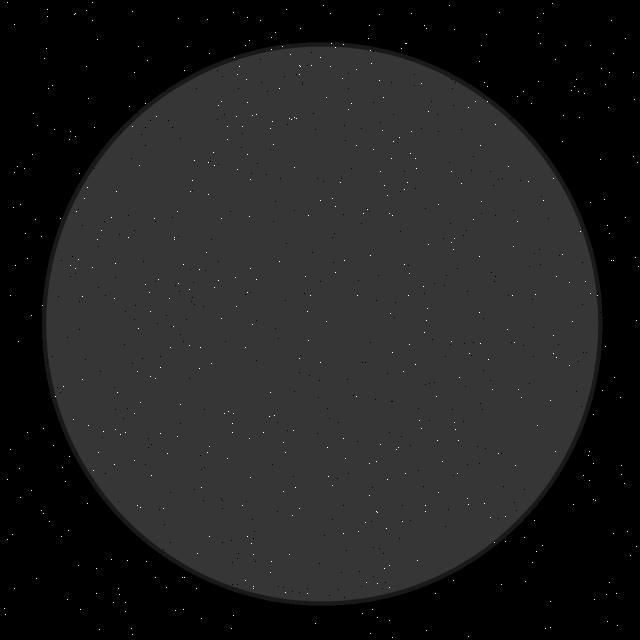Circle: (44, 43, 602, 606)
